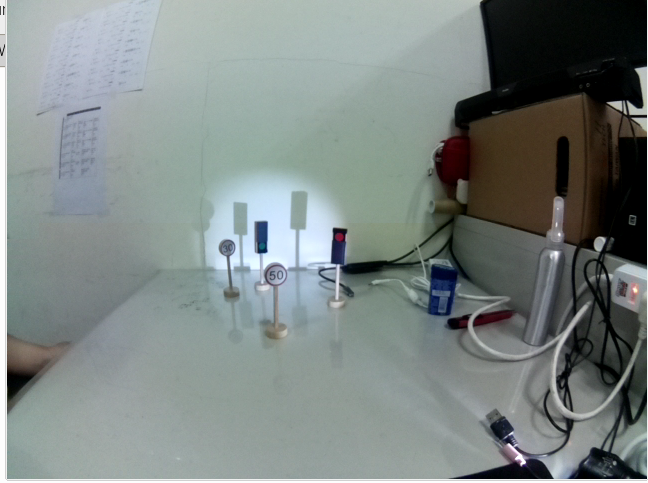Green: (252, 220, 270, 258)
Red: (329, 223, 348, 269)
Speed30: (215, 238, 238, 261)
Speed50: (263, 261, 289, 288)
